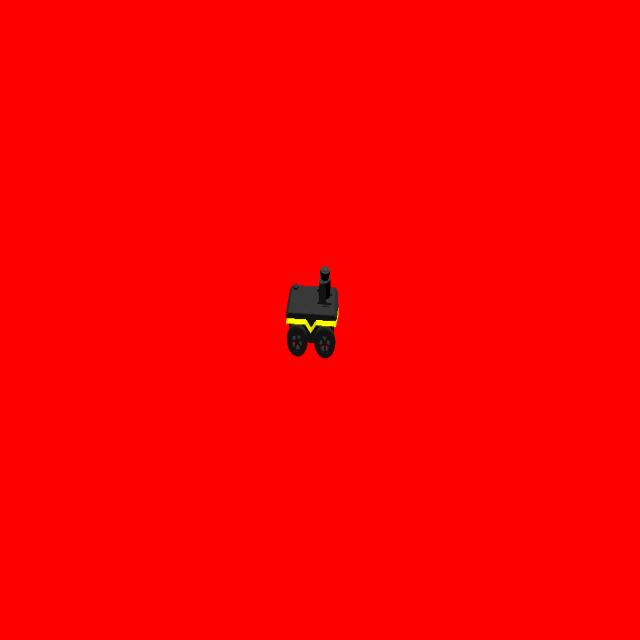jackal: (284, 261, 340, 358)
